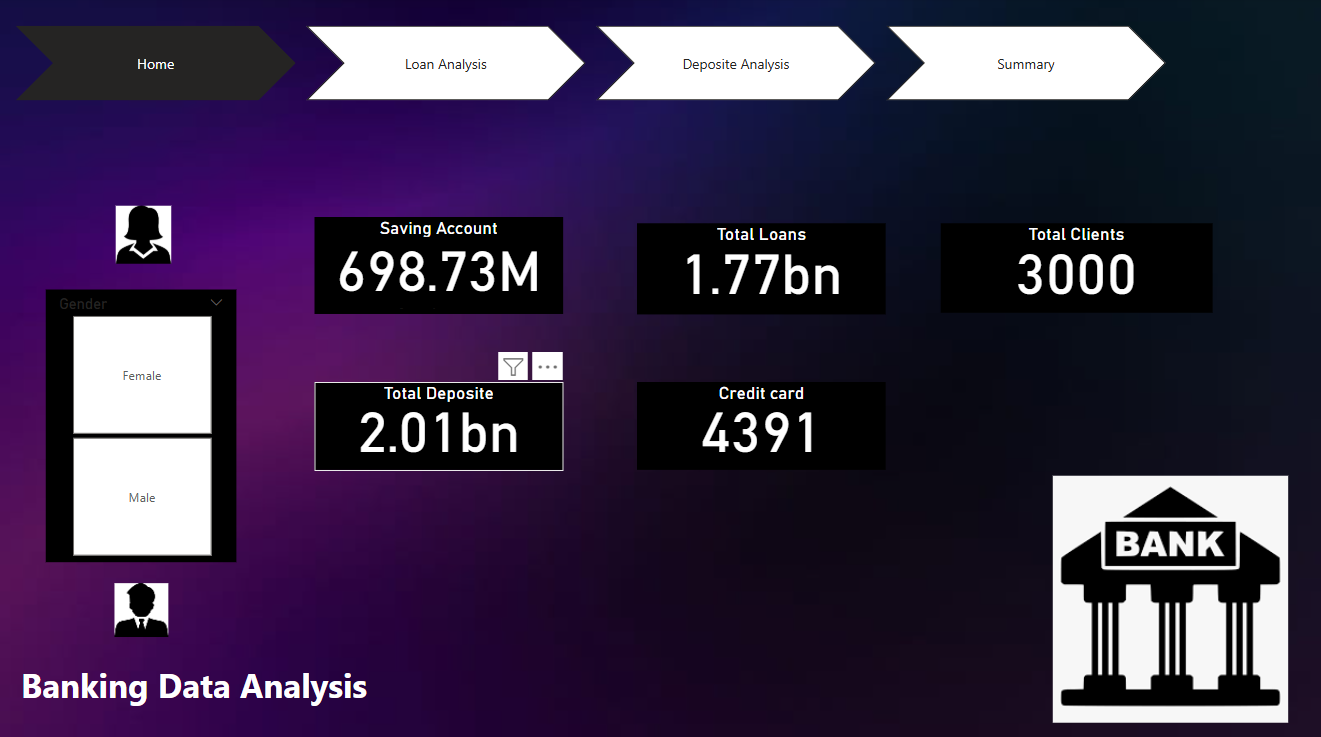

The page's visual inventory and layout, read from the dashboard file:
{"tool":"powerbi","page":{"name":"Home","canvas":[1280,720],"ordinal":0},"visuals":[{"type":"pageNavigator","box":[18.1,27.7,1113.5,72.4],"z":0},{"type":"slicer","fields":{"Values":["Table_2.Gender"]},"box":[46.7,282.7,183.9,263.5],"z":1000},{"type":"image","box":[107,196.2,68.6,65.9],"z":2000},{"type":"image","box":[108.4,546.1,61.7,90.6],"z":3000},{"type":"image","box":[1008.6,456.9,248.4,248.4],"z":4000},{"type":"card","title":"Total Loans","fields":{"Values":["Sum(Clients - Banking.Bank Loans)"]},"box":[617.5,218.2,240.1,87.8],"z":5000},{"type":"card","title":"Saving Account","fields":{"Values":["Sum(Clients - Banking.Saving Accounts)"]},"box":[306,212.7,240.1,93.3],"z":6000},{"type":"card","title":"Total Clients","fields":{"Values":["CountNonNull(Clients - Banking.Client ID)"]},"box":[911.2,218.2,262.1,86.4],"z":7000},{"type":"card","title":"Total Deposite","fields":{"Values":["Sum(Clients - Banking.Bank Deposits)"]},"box":[306,371.9,240.1,85.1],"z":8000},{"type":"card","title":"Credit card","fields":{"Values":["Sum(Clients - Banking.Amount of Credit Cards)"]},"box":[617.5,371.9,240.1,85.1],"z":9000},{"type":"textbox","box":[17.8,636.7,570.8,83.7],"z":10000}]}

Visuals, with their boxes in screenshot pixels (x1, y1, x2, y2), scaled from the page's 1280x720 canvas onto the 1321x737 screenshot:
pageNavigator: [x1=19, y1=28, x2=1168, y2=102]
slicer - Table_2.Gender: [x1=48, y1=289, x2=238, y2=559]
image: [x1=110, y1=201, x2=181, y2=268]
image: [x1=112, y1=559, x2=176, y2=652]
image: [x1=1041, y1=468, x2=1297, y2=722]
"Total Loans" card: [x1=637, y1=223, x2=885, y2=313]
"Saving Account" card: [x1=316, y1=218, x2=564, y2=313]
"Total Clients" card: [x1=940, y1=223, x2=1211, y2=312]
"Total Deposite" card: [x1=316, y1=381, x2=564, y2=468]
"Credit card" card: [x1=637, y1=381, x2=885, y2=468]
textbox: [x1=18, y1=652, x2=607, y2=736]
